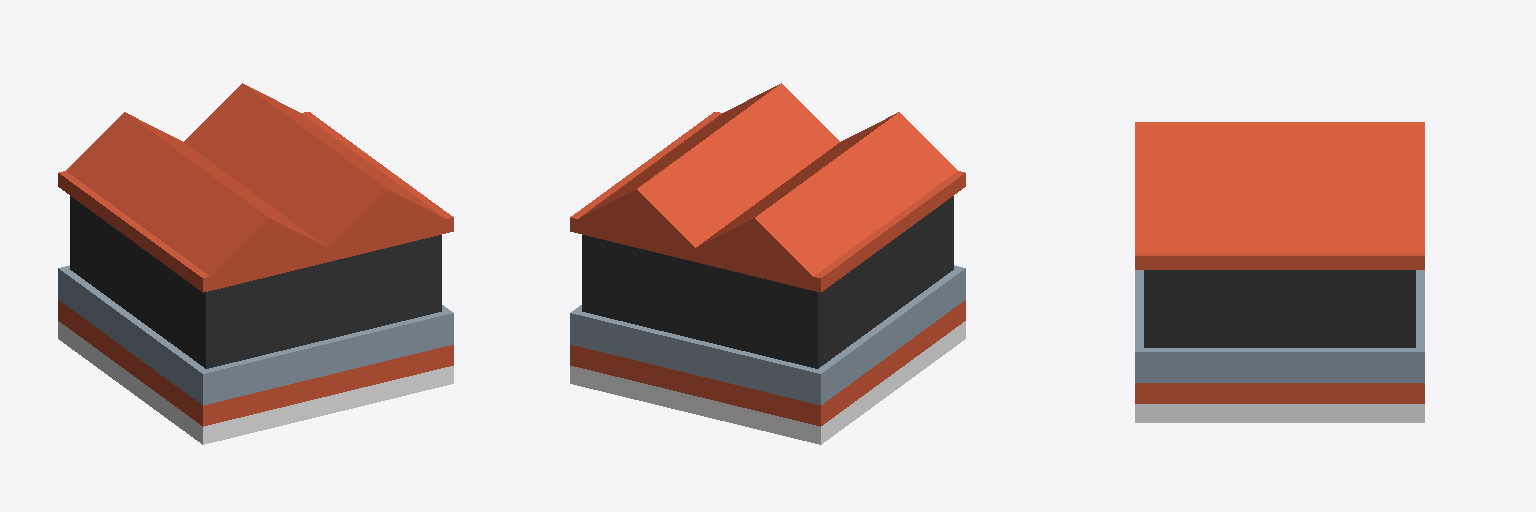
File: buildingCorridorFactory_exclusive.obj
The picture shows the model from 3 angles: view 1: azimuth 30°, elevation 25°; view 2: azimuth 150°, elevation 25°; view 3: azimuth 270°, elevation 25°; orthographic projection.
Visible parts, largest first — view 1: buildingCorridorFactory_exclusive; view 2: buildingCorridorFactory_exclusive; view 3: buildingCorridorFactory_exclusive.
Part boxes in pixels (left/top/right/bottom): buildingCorridorFactory_exclusive: left=58, top=83, right=453, bottom=444; buildingCorridorFactory_exclusive: left=570, top=83, right=965, bottom=444; buildingCorridorFactory_exclusive: left=1135, top=122, right=1424, bottom=422.
Bounding box in the file's own units: 10 × 8.03 × 10.